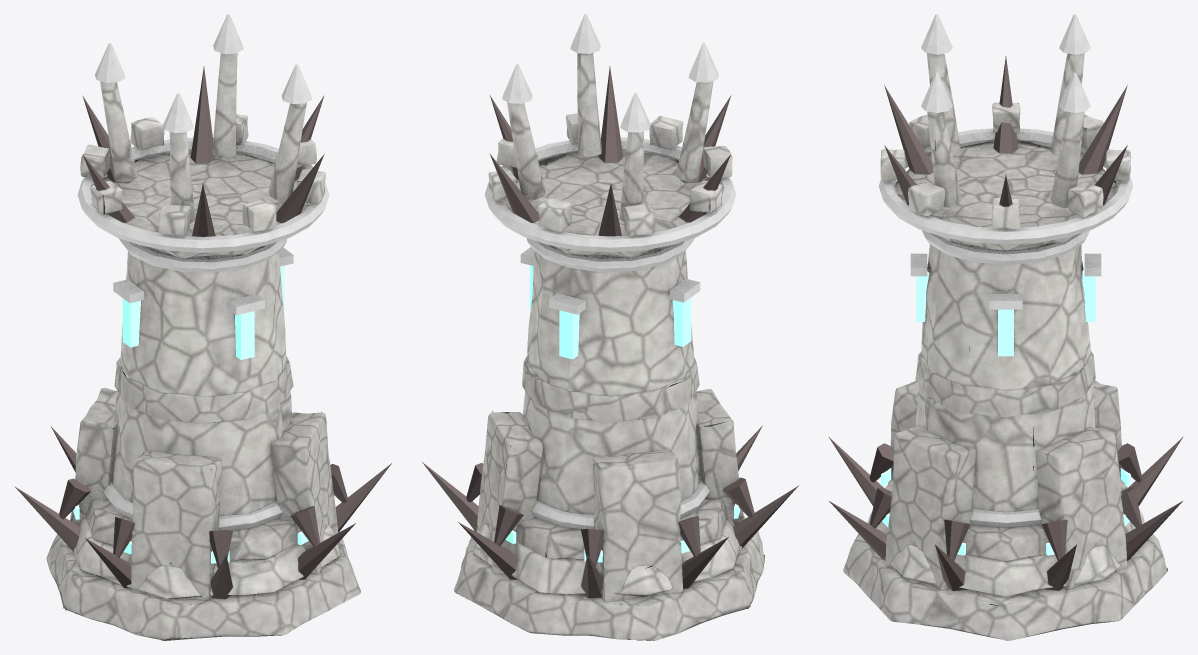
The model's file is tower.glb.
The picture shows the model from 3 angles, left to right: view 1: azimuth 30°, elevation 25°; view 2: azimuth 150°, elevation 25°; view 3: azimuth 270°, elevation 25°; orthographic projection.
Visible parts, largest first — view 1: body, extra_duskward, extra_sunward, glow; view 2: body, extra_duskward, extra_sunward, glow; view 3: body, extra_duskward, extra_sunward, glow.
Boxes of the visible parts, x1=… form: body: x1=46, y1=14, x2=360, y2=640; extra_duskward: x1=14, y1=66, x2=391, y2=599; extra_sunward: x1=59, y1=464, x2=347, y2=567; glow: x1=73, y1=266, x2=308, y2=563; body: x1=454, y1=14, x2=764, y2=640; extra_duskward: x1=422, y1=66, x2=798, y2=598; extra_sunward: x1=466, y1=463, x2=754, y2=566; glow: x1=505, y1=265, x2=740, y2=562; body: x1=843, y1=14, x2=1167, y2=640; extra_duskward: x1=829, y1=56, x2=1182, y2=590; extra_sunward: x1=869, y1=443, x2=1142, y2=560; glow: x1=881, y1=266, x2=1130, y2=555.
Bounding box in the file's own units: 5.37 × 8.73 × 5.31.
Materials: 3 (1 with a texture image).
